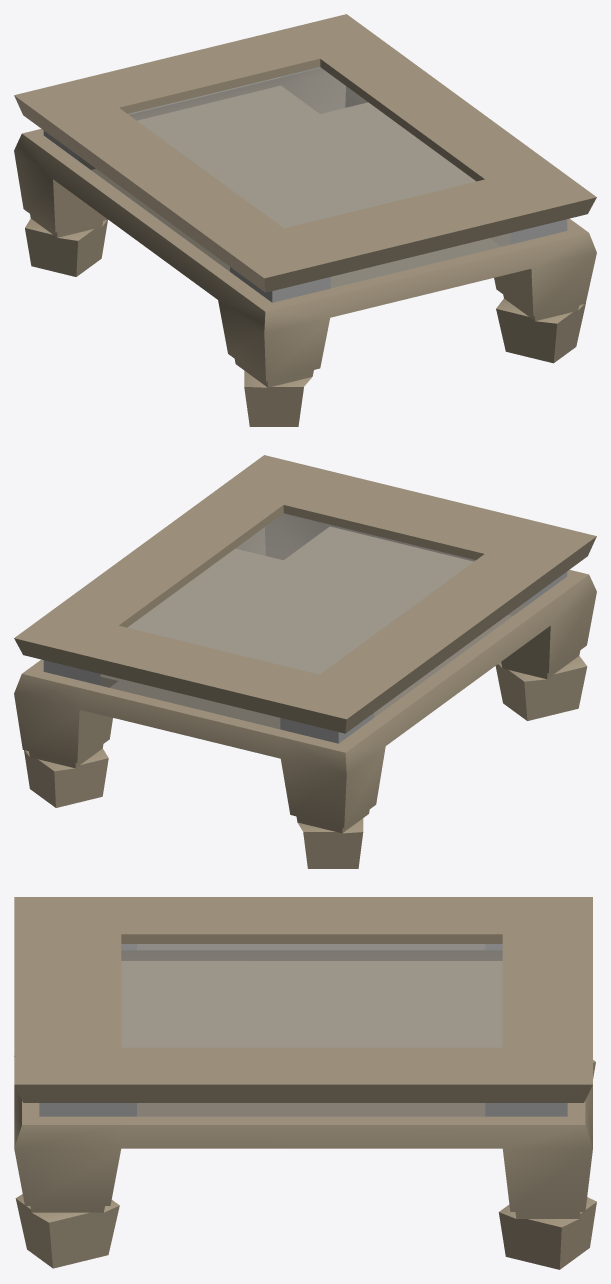
Rendered from table basse .fbx.
The picture shows the model from 3 angles, top to bottom: view 1: azimuth 30°, elevation 25°; view 2: azimuth 150°, elevation 25°; view 3: azimuth 270°, elevation 25°; orthographic projection. The views are drawn at different scales.
Visible parts, largest first — view 1: pCube1; view 2: pCube1; view 3: pCube1.
Part boxes in pixels (left/top/right/bottom): pCube1: left=14, top=14, right=596, bottom=426; pCube1: left=14, top=455, right=596, bottom=868; pCube1: left=14, top=897, right=596, bottom=1269.
Size of the model in its own units: 310 by 139 by 396.
